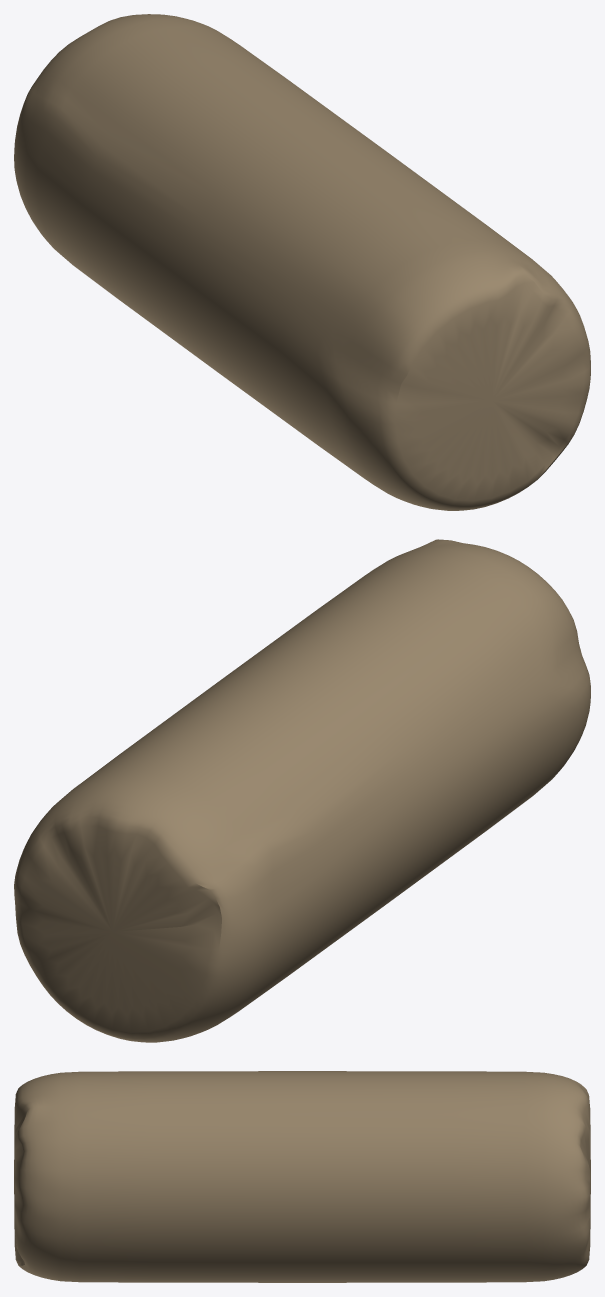
The model's file is Cojin Cabeza.fbx.
3 renders of one model, top to bottom at view 1: azimuth 30°, elevation 25°; view 2: azimuth 150°, elevation 25°; view 3: azimuth 270°, elevation 25°, orthographic. The views are drawn at different scales.
Parts seen in each view (by area): view 1: Silla.001; view 2: Silla.001; view 3: Silla.001.
Part boxes in pixels (left/top/right/bottom): Silla.001: left=14, top=14, right=590, bottom=510; Silla.001: left=14, top=539, right=590, bottom=1042; Silla.001: left=14, top=1071, right=590, bottom=1282.
Bounding box in the file's own units: 57.64 × 57.64 × 157.
